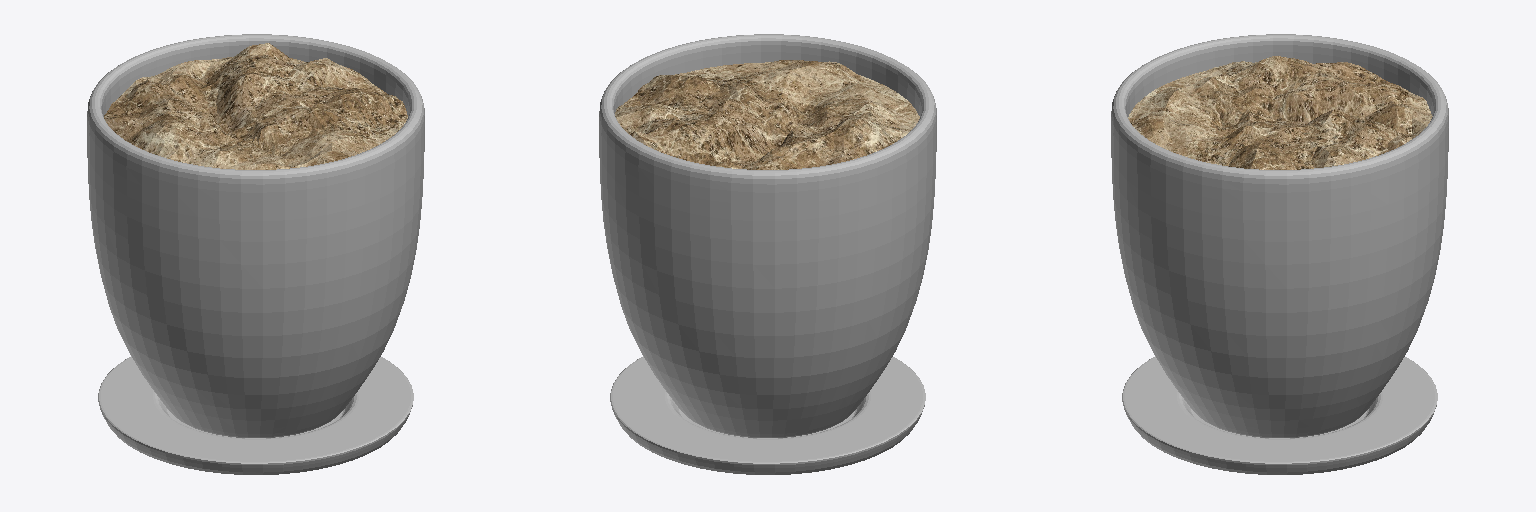
3 views of the same model, side by side, from view 1: azimuth 30°, elevation 25°; view 2: azimuth 150°, elevation 25°; view 3: azimuth 270°, elevation 25° (orthographic).
Visible parts, largest first — view 1: Arch41_030, Arch41_039; view 2: Arch41_030, Arch41_039; view 3: Arch41_030, Arch41_039.
Boxes of the visible parts, x1=… form: Arch41_030: x1=87, y1=34, x2=424, y2=474; Arch41_039: x1=104, y1=43, x2=407, y2=169; Arch41_030: x1=599, y1=34, x2=936, y2=474; Arch41_039: x1=615, y1=60, x2=919, y2=169; Arch41_030: x1=1111, y1=34, x2=1448, y2=474; Arch41_039: x1=1128, y1=56, x2=1432, y2=169.
Bounding box in the file's own units: 1883 × 1931 × 1883.
2 materials, 2 textured.